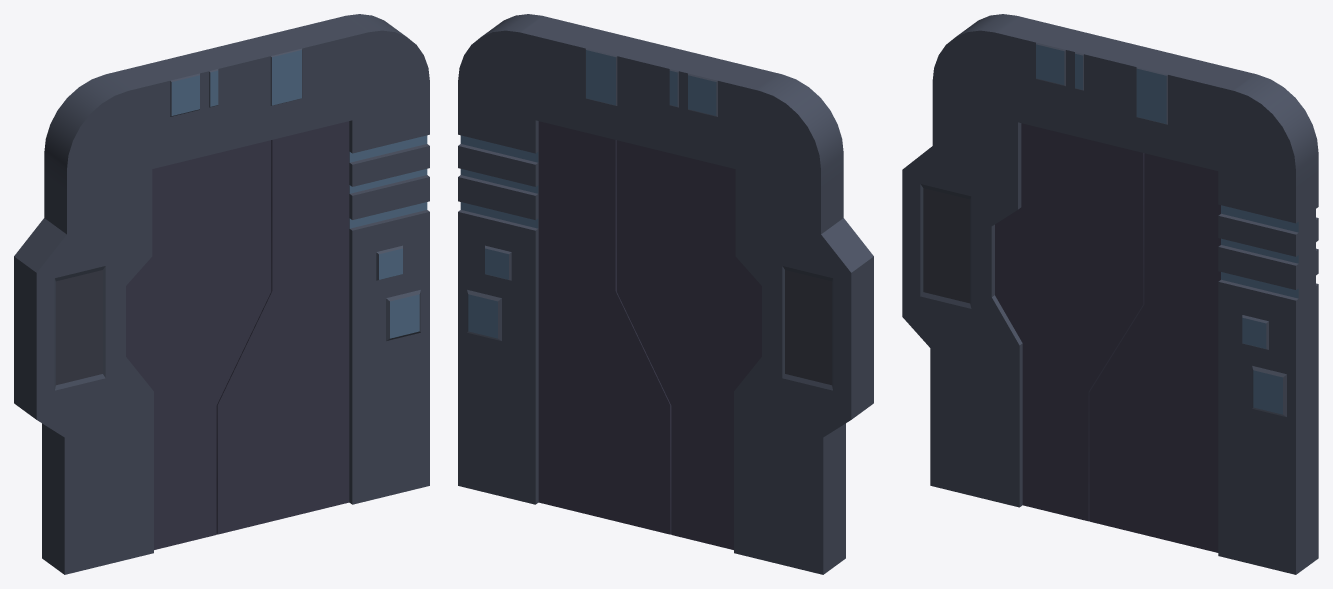
The model's file is door.fbx.
The picture shows the model from 3 angles, left to right: view 1: azimuth 30°, elevation 25°; view 2: azimuth 150°, elevation 25°; view 3: azimuth 330°, elevation 25°; orthographic projection.
Parts seen in each view (by area): view 1: group67_lever_low339_polySurface966; view 2: group67_lever_low339_polySurface966; view 3: group67_lever_low339_polySurface966.
Boxes of the visible parts, x1,y1,x2,y2 form: group67_lever_low339_polySurface966: [14, 14, 429, 574]; group67_lever_low339_polySurface966: [458, 14, 873, 574]; group67_lever_low339_polySurface966: [902, 14, 1318, 574].
Bounding box in the file's own units: 34.78 × 39.59 × 3.89.
